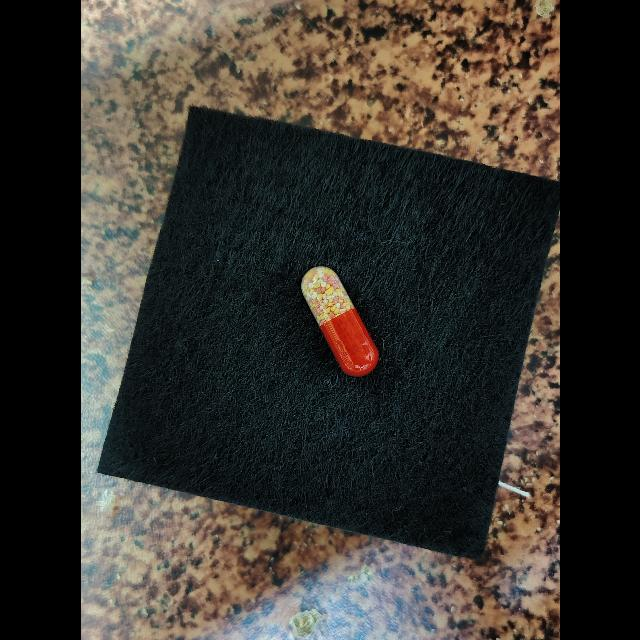Intact Capsule: (301, 266, 379, 376)
